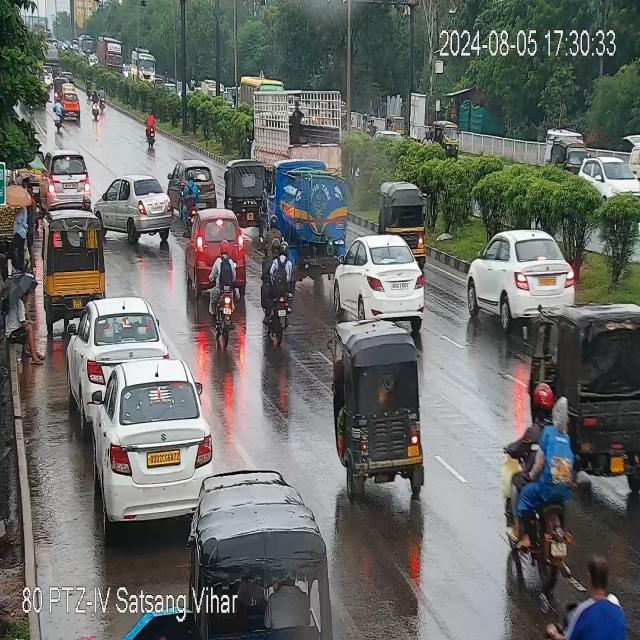2-wheelers: (505, 372, 572, 591), (564, 546, 627, 638), (260, 236, 295, 354), (210, 249, 243, 317), (180, 176, 202, 224), (141, 112, 160, 148), (91, 88, 109, 118), (53, 100, 67, 130)
auto: (202, 478, 338, 640), (527, 294, 640, 480), (335, 319, 435, 501), (44, 208, 106, 305), (385, 185, 430, 254), (227, 159, 270, 217), (436, 124, 456, 154)
car: (93, 357, 209, 521), (468, 229, 578, 324), (71, 297, 166, 397), (338, 238, 435, 326), (185, 206, 246, 291), (98, 176, 175, 239), (42, 152, 94, 210), (578, 156, 638, 198), (170, 161, 216, 204), (62, 92, 82, 119)
pedestrian: (3, 273, 42, 363), (7, 179, 37, 267)
truck: (240, 80, 358, 206), (274, 164, 346, 251)
